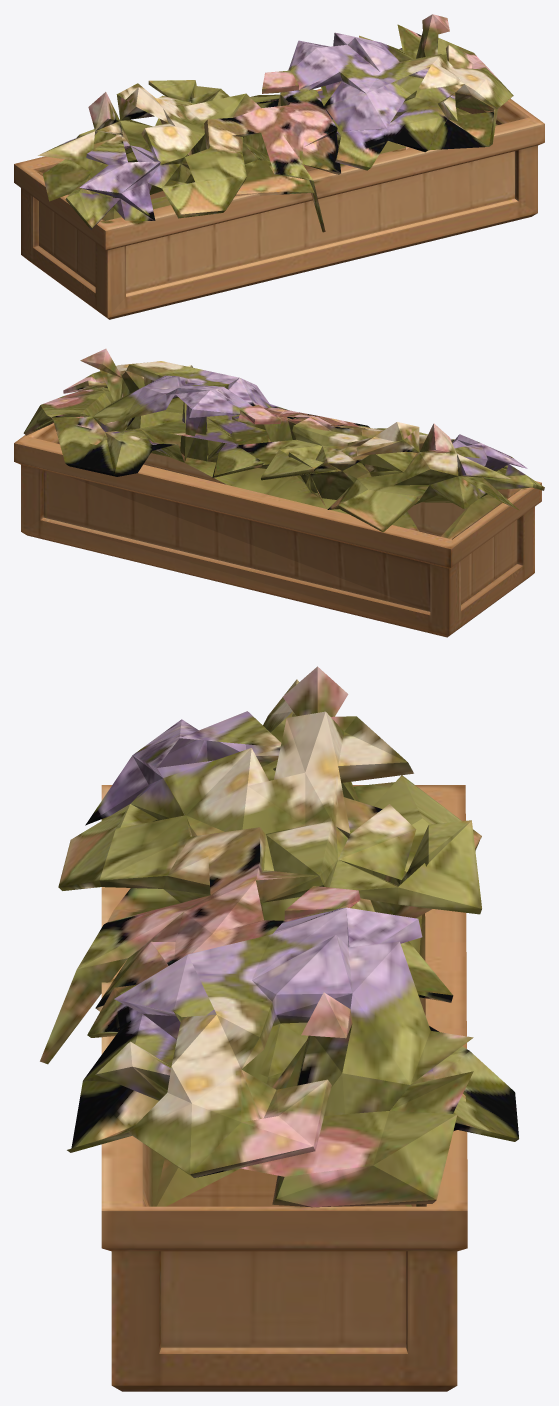
The model's file is flowerbox-Bi9eqBbq.glb.
3 views of the same model, one above another, from view 1: azimuth 30°, elevation 25°; view 2: azimuth 150°, elevation 25°; view 3: azimuth 270°, elevation 25° (orthographic). The views are drawn at different scales.
Visible parts, largest first — view 1: tripo_node_c42fdcad-9f5e-440d-8193-96a2e91fe8b4; view 2: tripo_node_c42fdcad-9f5e-440d-8193-96a2e91fe8b4; view 3: tripo_node_c42fdcad-9f5e-440d-8193-96a2e91fe8b4.
Boxes of the visible parts, left/top/right/bottom form: tripo_node_c42fdcad-9f5e-440d-8193-96a2e91fe8b4: left=14, top=14, right=544, bottom=319; tripo_node_c42fdcad-9f5e-440d-8193-96a2e91fe8b4: left=14, top=348, right=544, bottom=637; tripo_node_c42fdcad-9f5e-440d-8193-96a2e91fe8b4: left=40, top=666, right=518, bottom=1391.
Size of the model in its own units: 0.98 by 0.3702 by 0.4469.
1 material, 1 textured.
